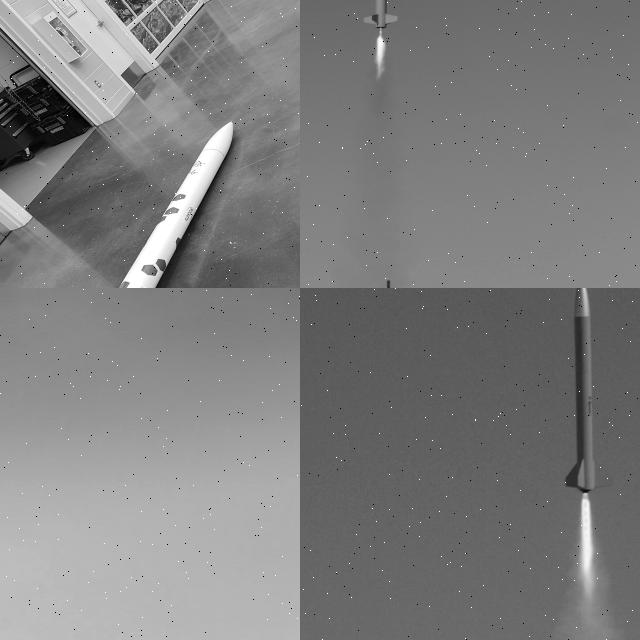Rocket: (118, 120, 234, 288), (563, 288, 615, 494), (362, 0, 398, 29)
